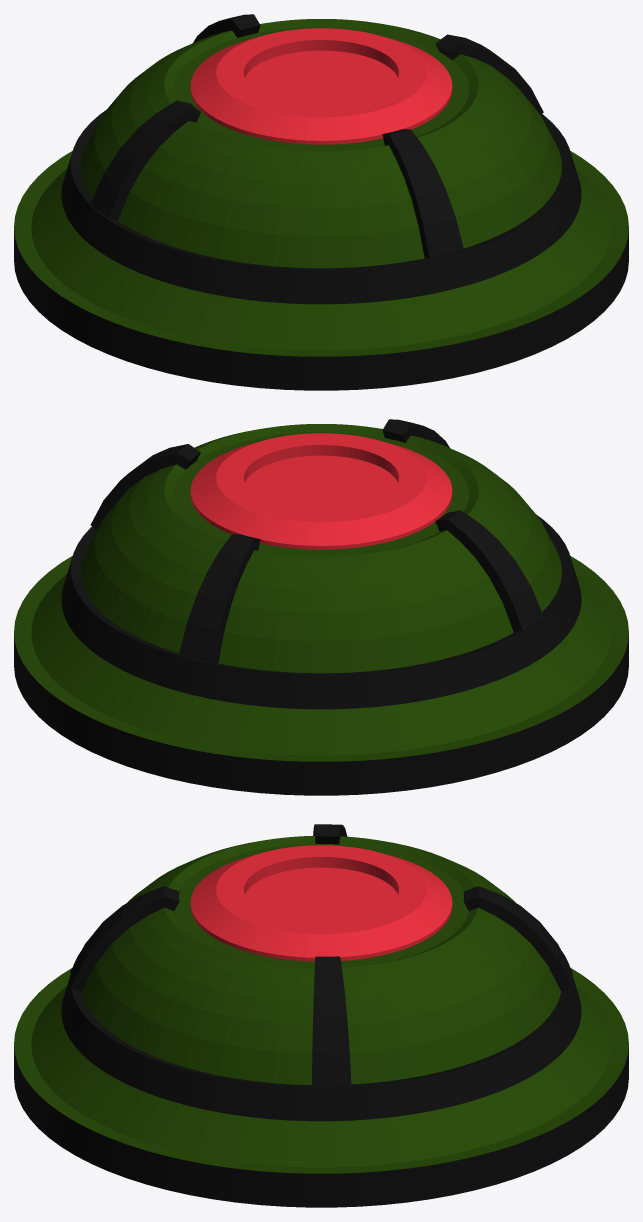
Rendered from Landmine.fbx.
3 views of the same model, one above another, from view 1: azimuth 30°, elevation 25°; view 2: azimuth 150°, elevation 25°; view 3: azimuth 270°, elevation 25° (orthographic).
Parts seen in each view (by area): view 1: Cylinder, Cylinder.001; view 2: Cylinder, Cylinder.001; view 3: Cylinder, Cylinder.001.
Boxes of the visible parts, <box> form: Cylinder: <box>14,14,628,390</box>; Cylinder.001: <box>190,28,452,144</box>; Cylinder: <box>14,419,628,795</box>; Cylinder.001: <box>190,433,452,549</box>; Cylinder: <box>14,824,628,1207</box>; Cylinder.001: <box>190,845,452,961</box>.
Bounding box in the file's own units: 925 × 312 × 925.
